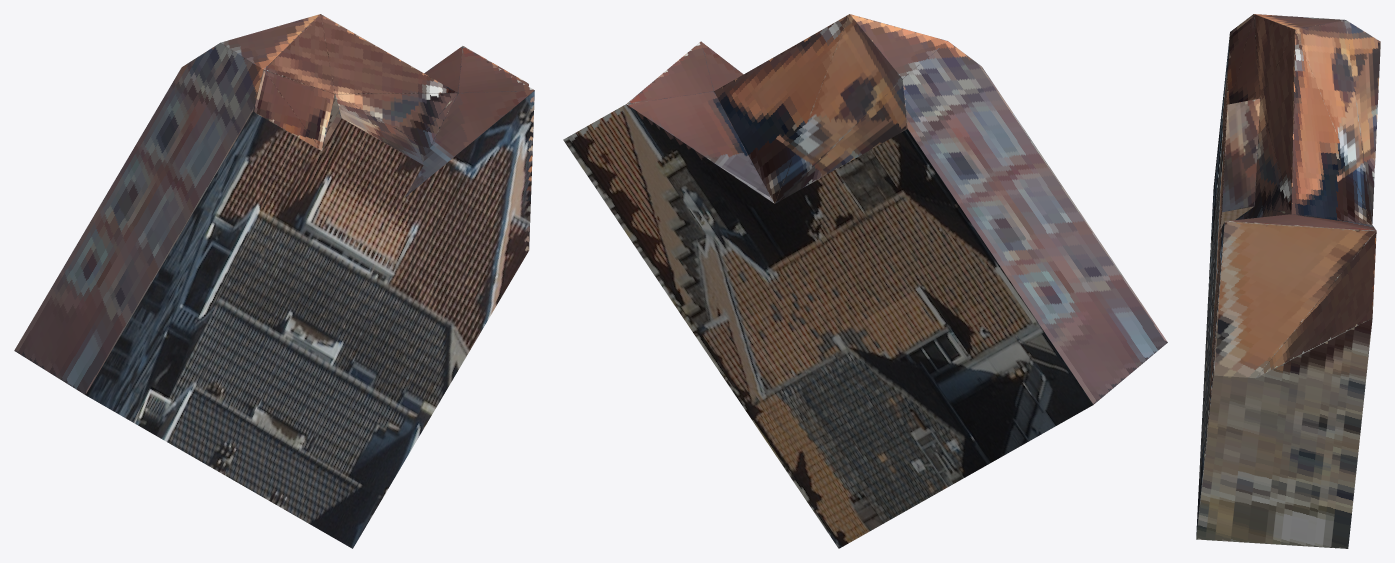
3 renders of one model, left to right at view 1: azimuth 30°, elevation 25°; view 2: azimuth 150°, elevation 25°; view 3: azimuth 270°, elevation 25°, orthographic. The views are drawn at different scales.
Visible parts, largest first — view 1: BAG_0599100000760366 (×5); view 2: BAG_0599100000760366 (×3); view 3: BAG_0599100000760366 (×5).
Part boxes in pixels (x1,y1,x2,y2): BAG_0599100000760366 (×5): (14,14,534,548); BAG_0599100000760366 (×3): (563,14,1167,548); BAG_0599100000760366 (×5): (1196,14,1380,548).
Size of the model in its own units: 25.28 by 23.47 by 7.46.
5 materials, 5 textured.
